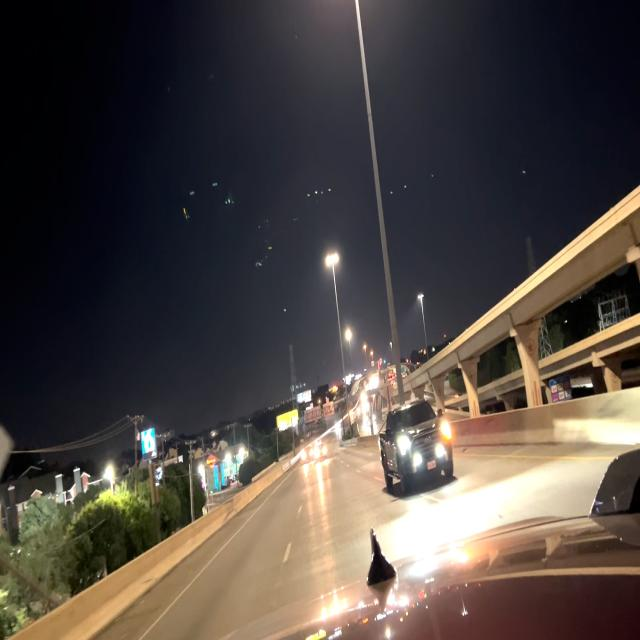back-of-sign: (303, 400, 334, 426), (380, 378, 395, 406)
